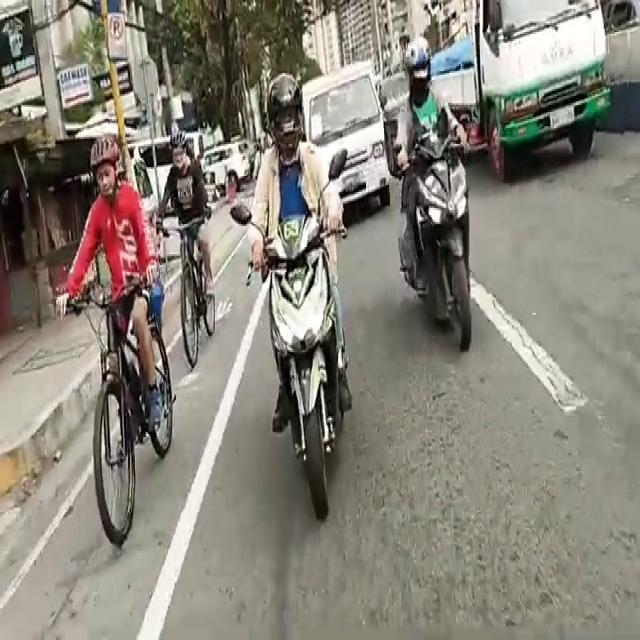car: (311, 79, 391, 210), (202, 146, 254, 193)
motorcycle: (249, 70, 355, 491), (384, 55, 478, 357)
truck: (439, 5, 609, 175)
